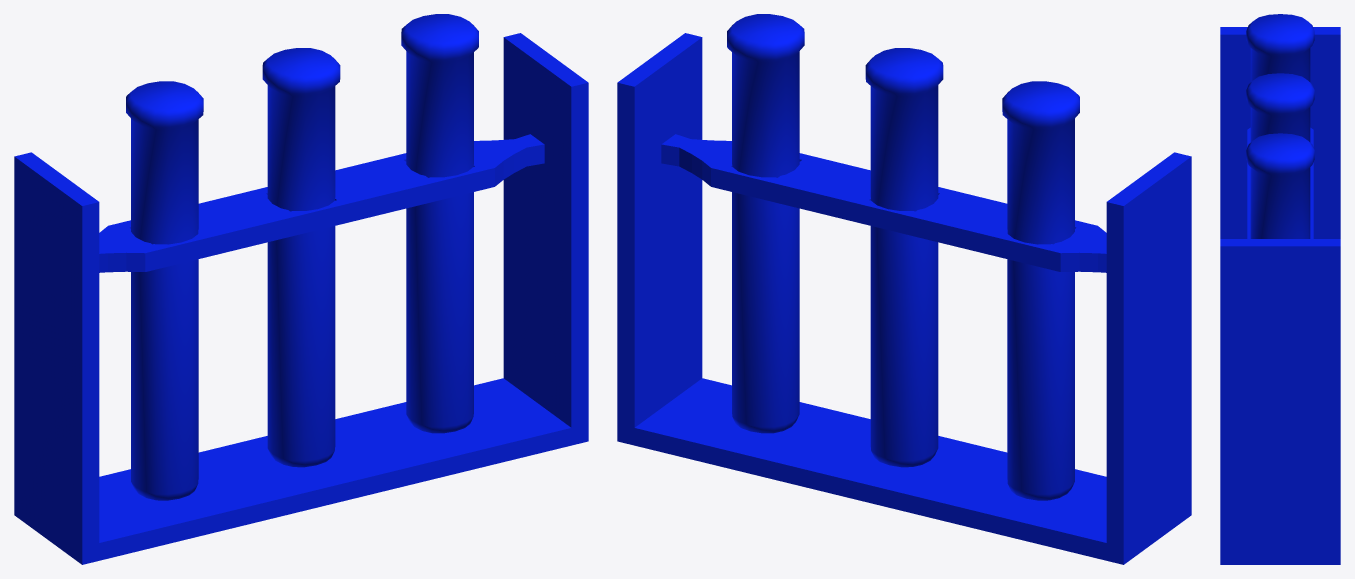
File: Tube flask holder.fbx
3 views of the same model, side by side, from view 1: azimuth 30°, elevation 25°; view 2: azimuth 150°, elevation 25°; view 3: azimuth 270°, elevation 25° (orthographic). The views are drawn at different scales.
Parts seen in each view (by area): view 1: Tube flask holder; view 2: Tube flask holder; view 3: Tube flask holder.
Boxes of the visible parts, x1=… form: Tube flask holder: x1=14, y1=14, x2=588, y2=564; Tube flask holder: x1=617, y1=14, x2=1191, y2=564; Tube flask holder: x1=1220, y1=14, x2=1340, y2=564.
Size of the model in its own units: 0.3787 by 0.2975 by 0.0879.
